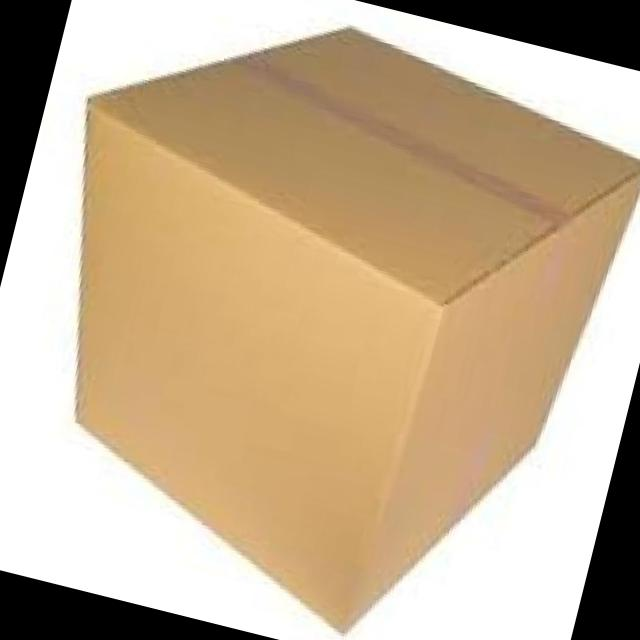cardboard paper: (78, 26, 640, 627)
